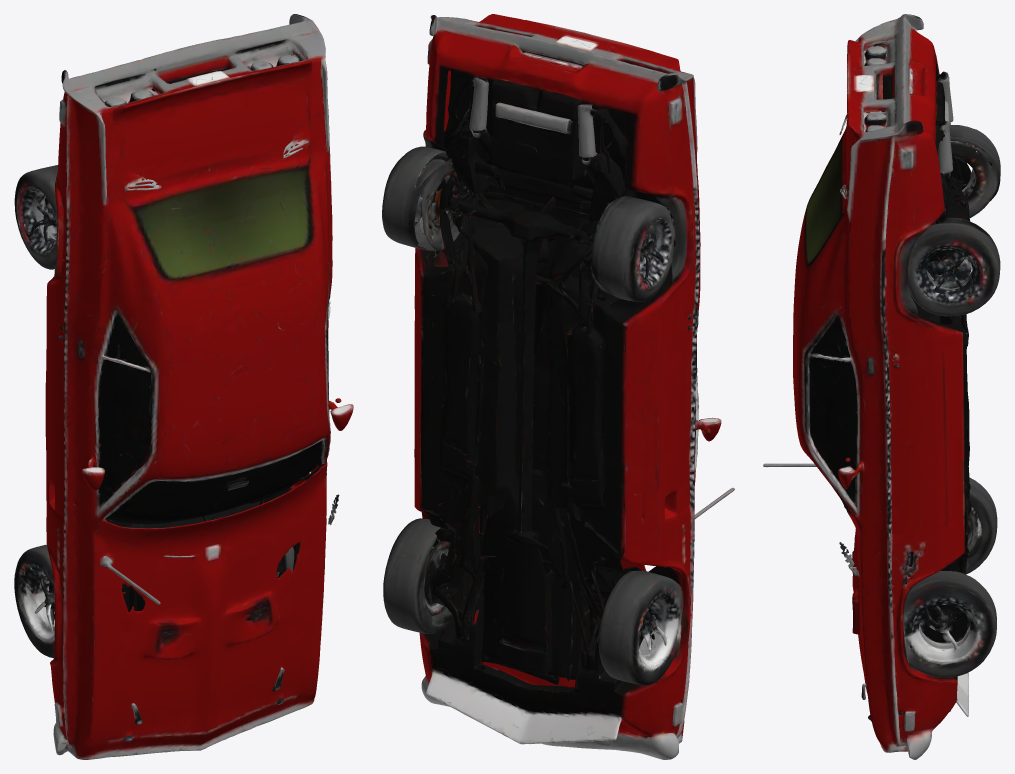
Rendered from bruiser.glb.
The picture shows the model from 3 angles, left to right: view 1: azimuth 30°, elevation 25°; view 2: azimuth 150°, elevation 25°; view 3: azimuth 270°, elevation 25°; orthographic projection. The views are drawn at different scales.
Visible parts, largest first — view 1: body; view 2: body; view 3: body.
Part boxes in pixels (bbox=[...]): body: bbox=[14, 14, 353, 759]; body: bbox=[382, 14, 734, 759]; body: bbox=[763, 14, 1000, 759].
Bounding box in the file's own units: 0.4806 × 1.18 × 0.3923.
Materials: 1 (1 with a texture image).
